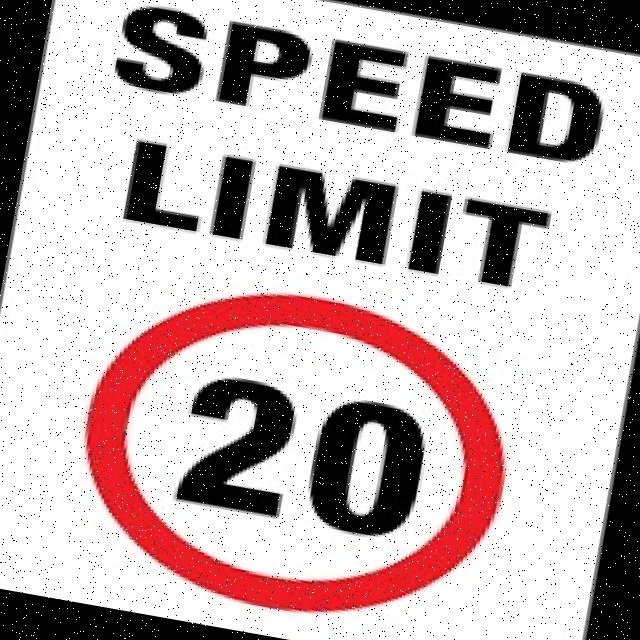speed_limit_20: (38, 249, 549, 640)
